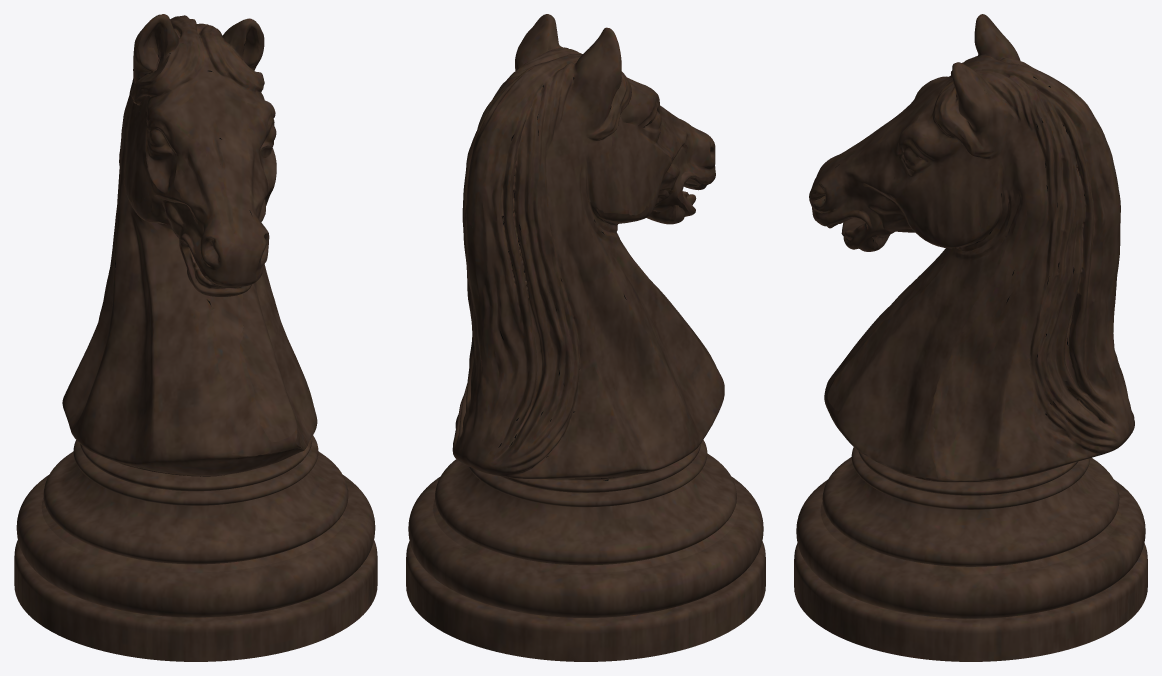
Rendered from springer_schwarz.glb.
3 views of the same model, side by side, from view 1: azimuth 30°, elevation 25°; view 2: azimuth 150°, elevation 25°; view 3: azimuth 270°, elevation 25° (orthographic). The views are drawn at different scales.
Visible parts, largest first — view 1: springer_schwarz; view 2: springer_schwarz; view 3: springer_schwarz.
Boxes of the visible parts, left/top/right/bottom form: springer_schwarz: left=14, top=14, right=377, bottom=661; springer_schwarz: left=406, top=14, right=765, bottom=661; springer_schwarz: left=794, top=14, right=1147, bottom=661.
Bounding box in the file's own units: 0.8 × 1.39 × 0.8.
Materials: 1 (1 with a texture image).
